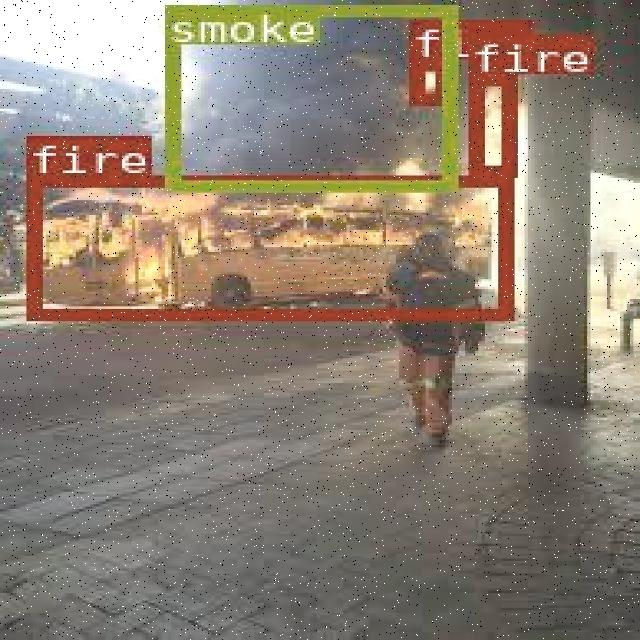fire: (26, 174, 508, 318), (467, 74, 512, 174), (408, 57, 449, 102)
smoke: (163, 3, 454, 188)
